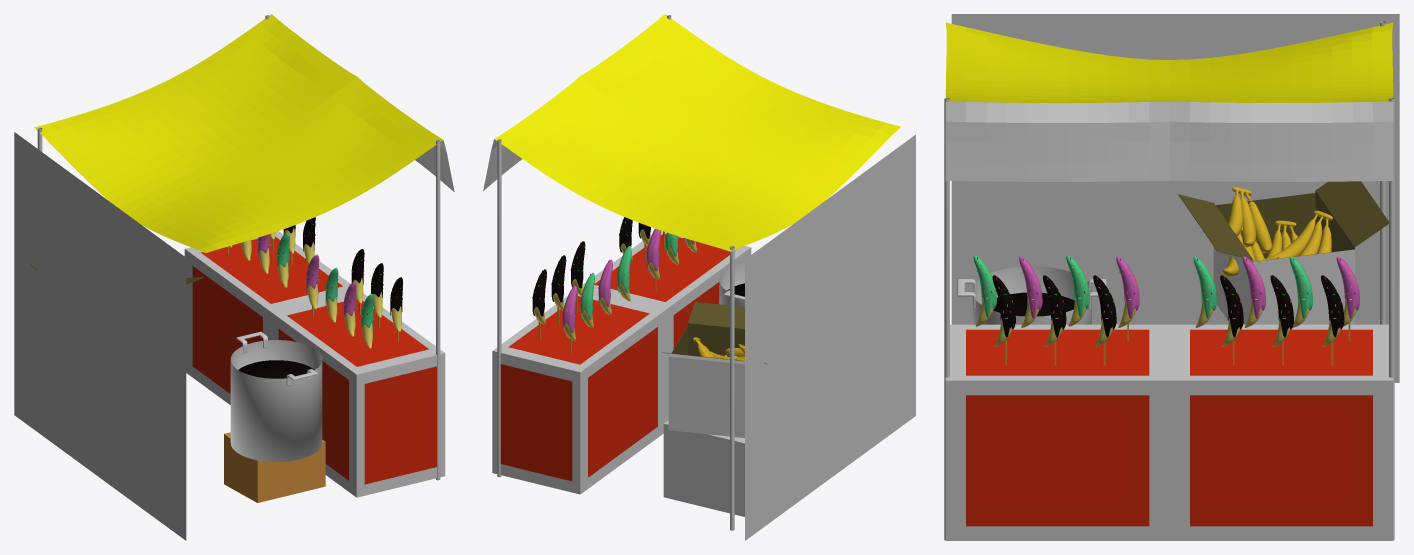
The model's file is barraca_banana.obj.
3 renders of one model, left to right at view 1: azimuth 30°, elevation 25°; view 2: azimuth 150°, elevation 25°; view 3: azimuth 270°, elevation 25°, orthographic. The views are drawn at different scales.
Parts seen in each view (by area): view 1: 平面.007, 平面.008, 立方体.008, 平面.009, 立方体, 円柱.003, 円柱.019, 円柱.002, 円柱.005, 円柱.008, 円柱.009, 円柱.038 (+1 smaller); view 2: 平面.007, 平面.008, 立方体.008, 立方体.014, 立方体.013, 円柱.002, 円柱.019, 円柱.020, 平面.009, 円柱.003, 円柱.004, 円柱.038 (+3 smaller); view 3: 立方体.008, 平面.007, 平面.008, 立方体.014, 平面.009, 円柱.019, 円柱.003, 円柱.002, 円柱.050, 円柱.048, 円柱.008, 円柱.038 (+8 smaller).
Boxes of the visible parts, left/top/right/bottom form: 平面.007: left=34, top=14, right=454, bottom=253; 平面.008: left=14, top=132, right=186, bottom=540; 立方体.008: left=184, top=231, right=445, bottom=497; 平面.009: left=230, top=331, right=322, bottom=461; 立方体: left=224, top=432, right=325, bottom=502; 円柱.003: left=351, top=249, right=403, bottom=342; 円柱.019: left=265, top=15, right=440, bottom=480; 円柱.002: left=270, top=217, right=316, bottom=264; 円柱.005: left=325, top=267, right=338, bottom=322; 円柱.008: left=306, top=254, right=319, bottom=309; 円柱.009: left=343, top=282, right=356, bottom=336; 円柱.038: left=276, top=233, right=289, bottom=287; 平面.007: left=483, top=14, right=900, bottom=251; 平面.008: left=745, top=134, right=915, bottom=540; 立方体.008: left=492, top=231, right=751, bottom=494; 立方体.014: left=662, top=302, right=767, bottom=437; 立方体.013: left=663, top=420, right=744, bottom=516; 円柱.002: left=532, top=241, right=585, bottom=339; 円柱.019: left=497, top=15, right=671, bottom=477; 円柱.020: left=730, top=246, right=734, bottom=530; 平面.009: left=719, top=263, right=744, bottom=306; 円柱.003: left=619, top=217, right=664, bottom=262; 円柱.004: left=598, top=259, right=612, bottom=314; 円柱.038: left=617, top=246, right=631, bottom=301; 立方体.008: left=945, top=324, right=1393, bottom=540; 平面.007: left=945, top=22, right=1393, bottom=181; 平面.008: left=951, top=14, right=1399, bottom=382; 立方体.014: left=1178, top=181, right=1388, bottom=324; 平面.009: left=957, top=266, right=1106, bottom=324; 円柱.019: left=944, top=98, right=1394, bottom=540; 円柱.003: left=992, top=275, right=1116, bottom=365; 円柱.002: left=1220, top=275, right=1344, bottom=365; 円柱.050: left=1228, top=187, right=1272, bottom=253; 円柱.048: left=1258, top=210, right=1332, bottom=261; 円柱.008: left=1116, top=256, right=1139, bottom=327; 円柱.038: left=1193, top=256, right=1216, bottom=327.
Size of the model in its own units: 1.82 by 2.21 by 2.03.
